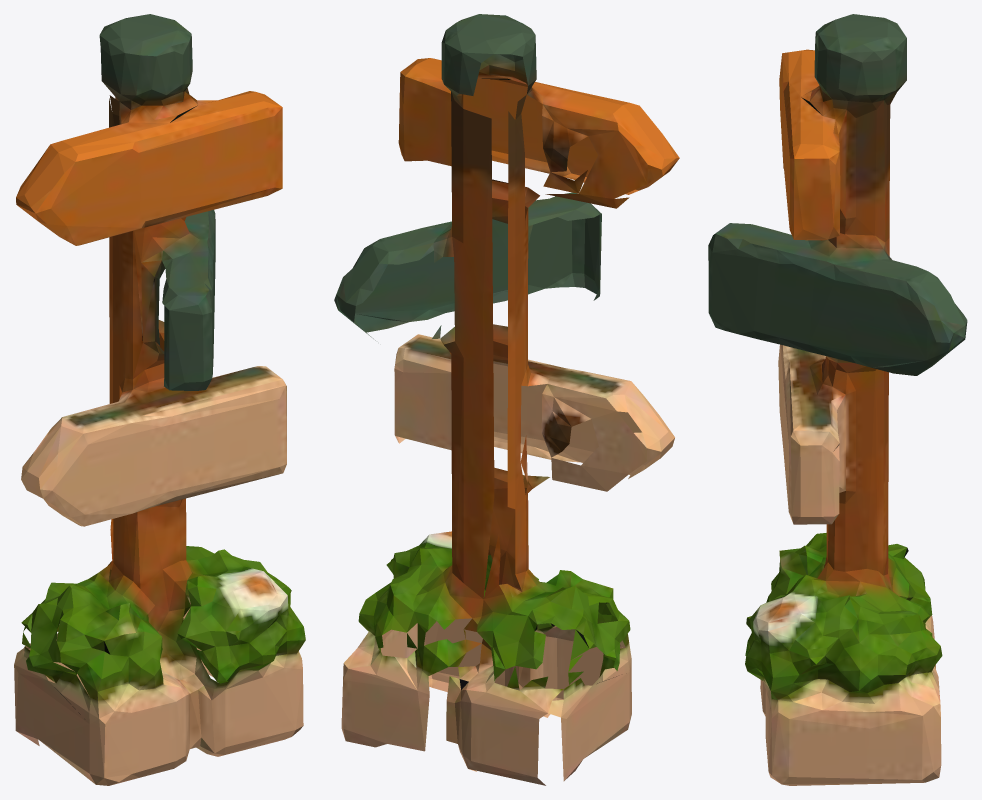
File: M-5_09_signpost.glb
3 renders of one model, left to right at view 1: azimuth 30°, elevation 25°; view 2: azimuth 150°, elevation 25°; view 3: azimuth 270°, elevation 25°, orthographic.
Visible parts, largest first — view 1: loA; view 2: loA; view 3: loA.
Part boxes in pixels (left/top/right/bottom): loA: left=14, top=14, right=305, bottom=785; loA: left=334, top=14, right=679, bottom=785; loA: left=708, top=14, right=967, bottom=785.
Size of the model in its own units: 1.54 by 3.8 by 1.26.
1 material, 1 textured.
